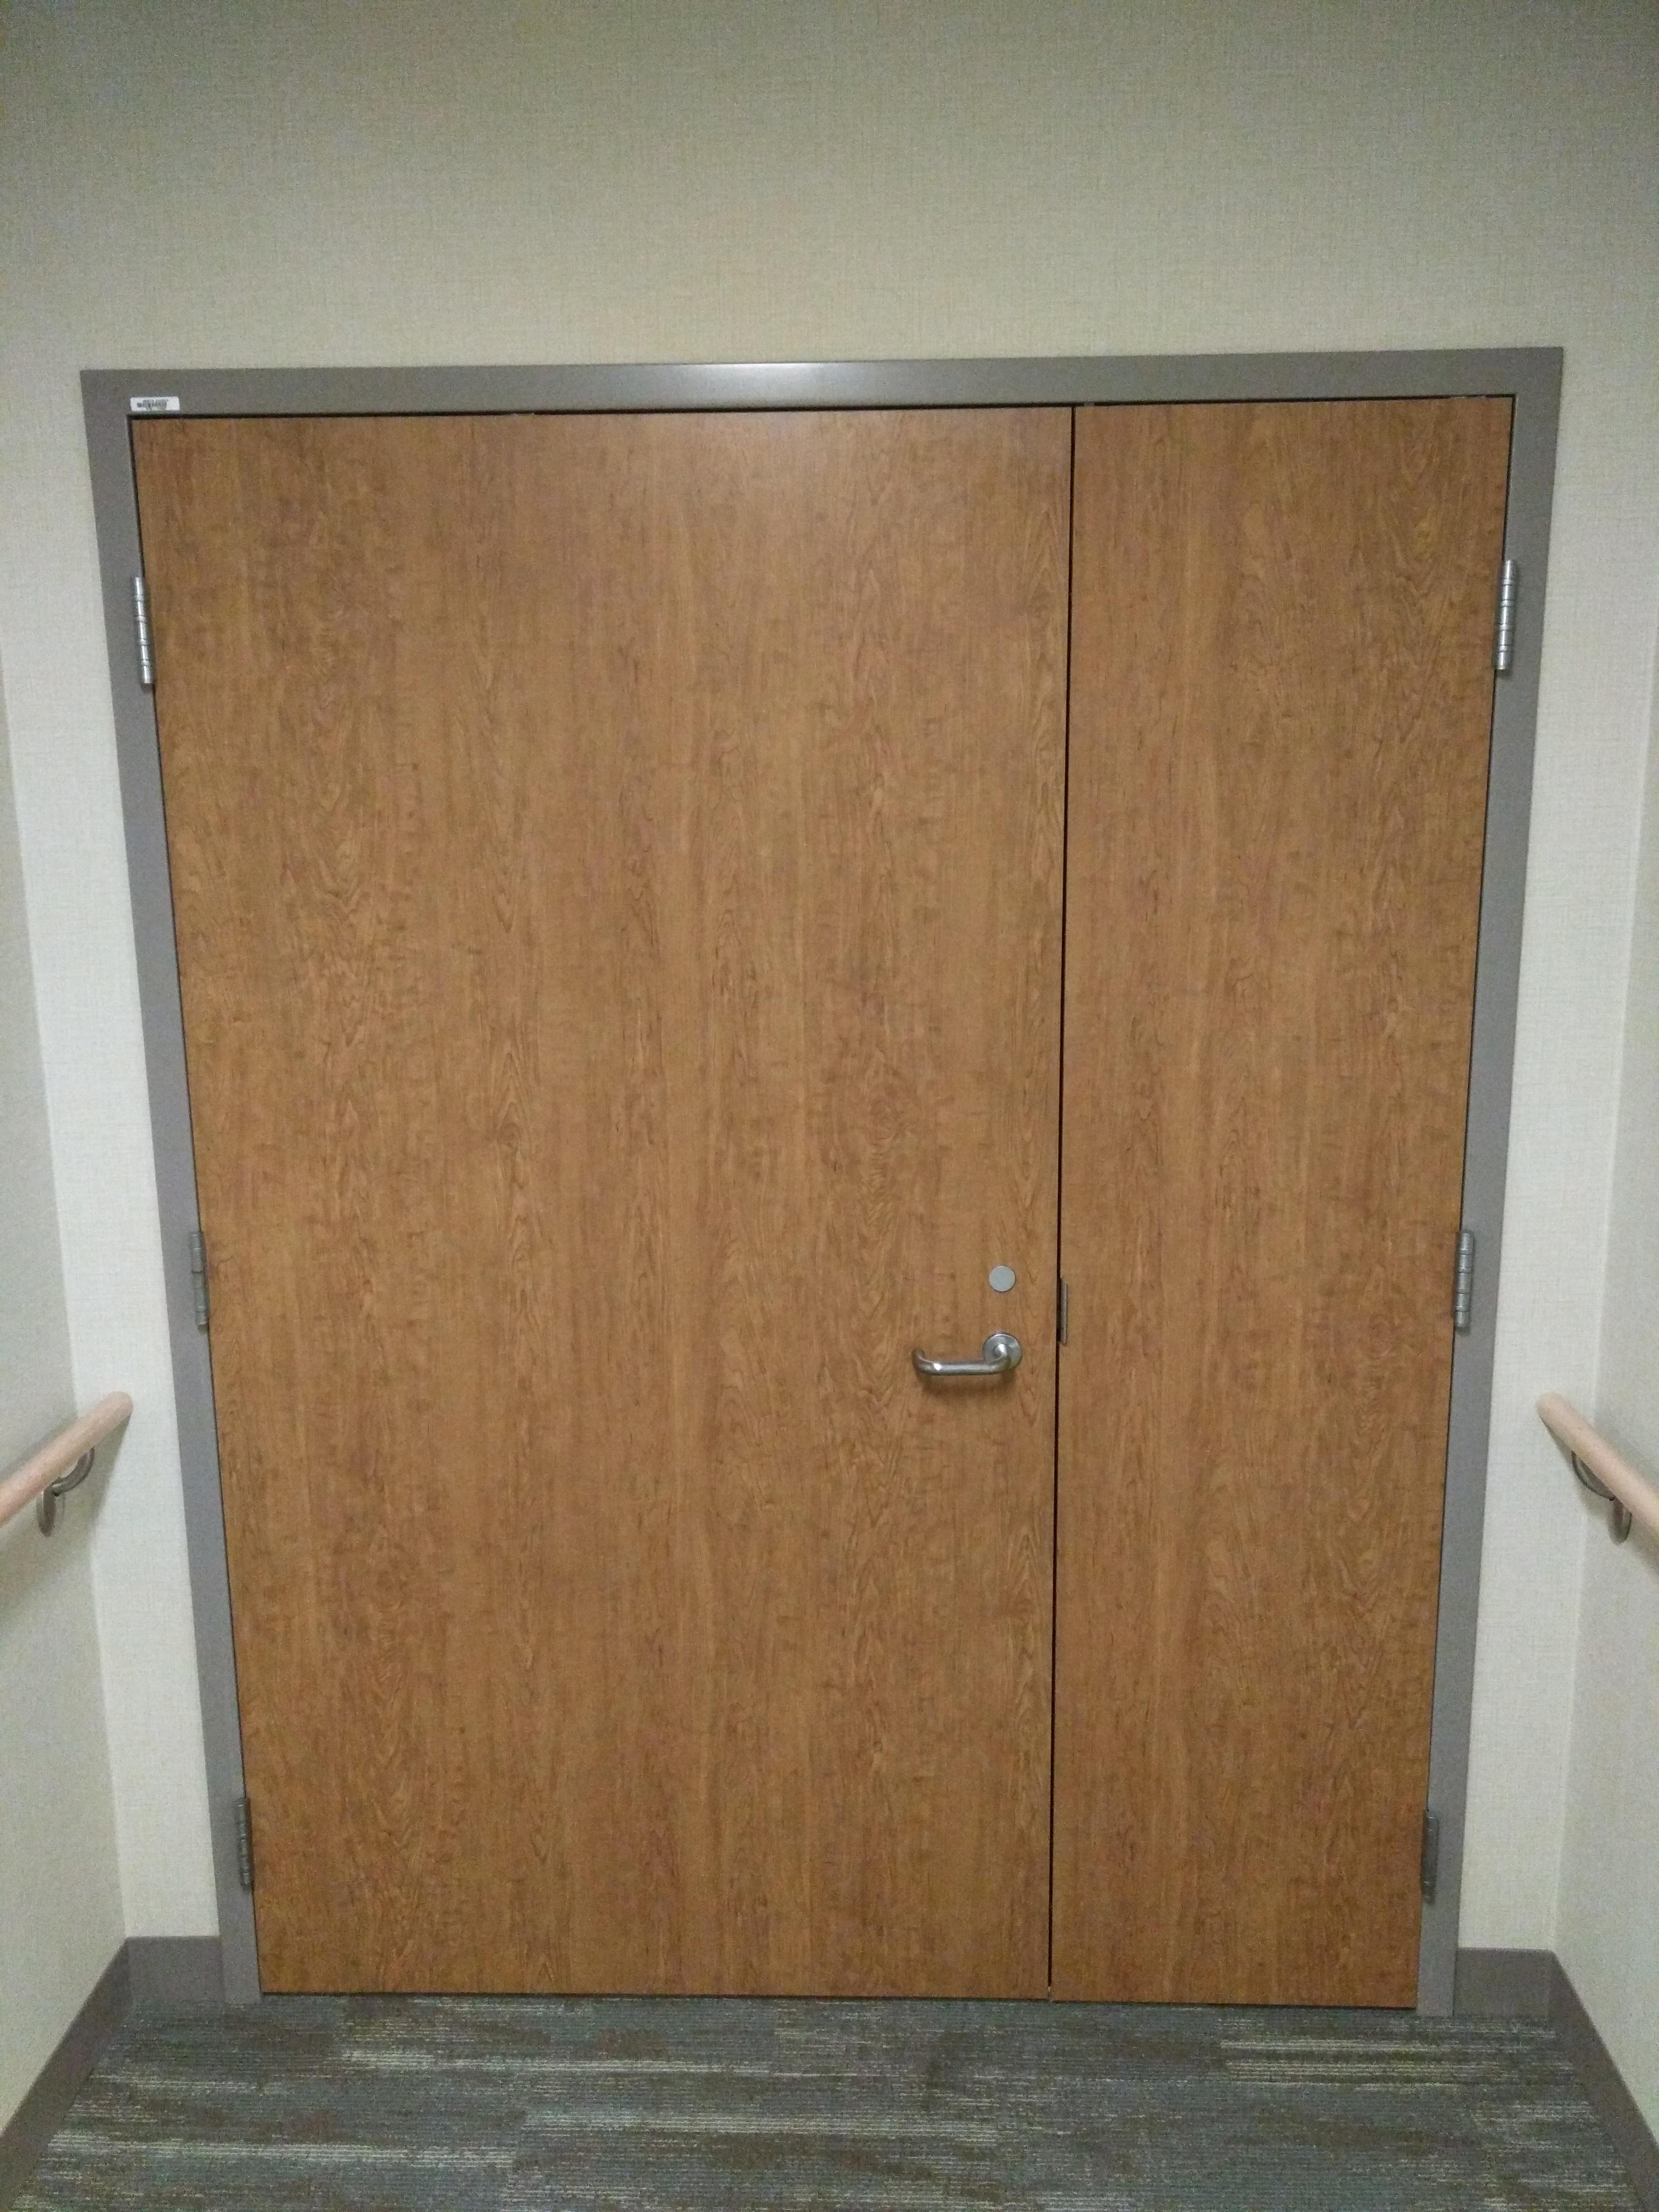door: (113, 399, 1066, 1989)
